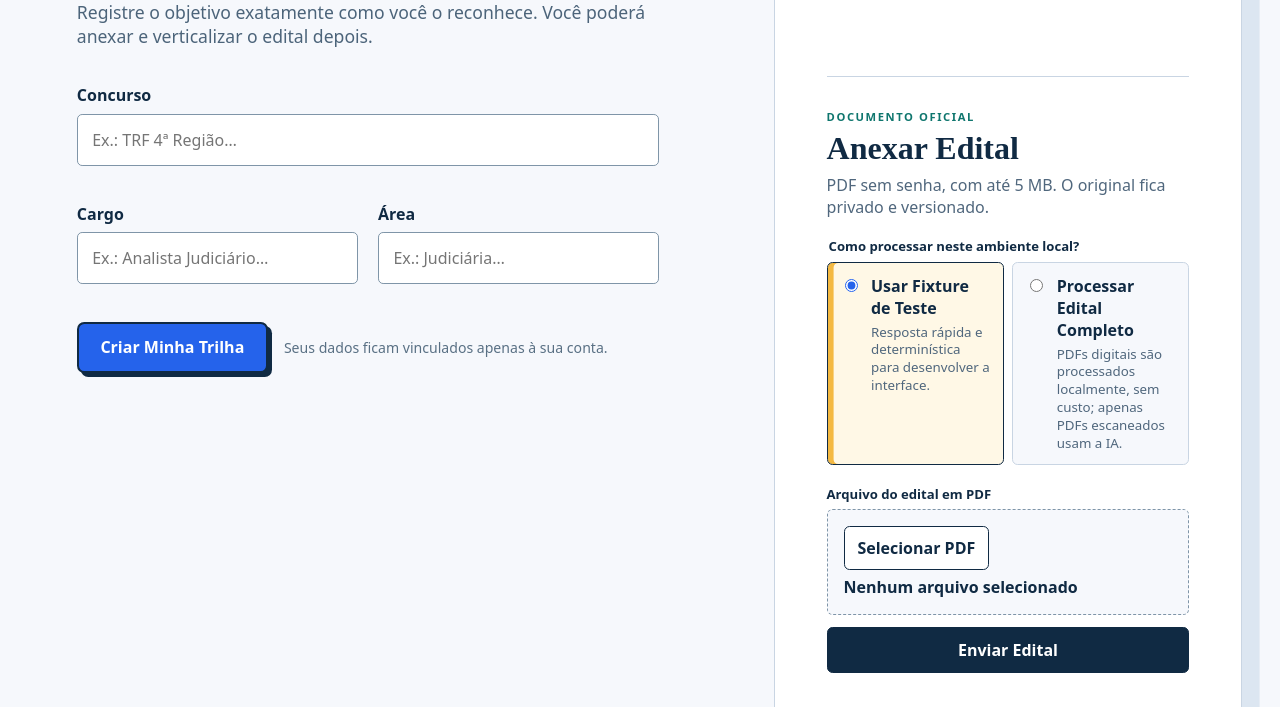
Test case: first project journey › shows field-level guidance before sending invalid project data
The image size is (1280, 707).
(page scrolled)
Click the button "Criar Minha Trilha" at (172, 347), box [77,322,268,373]
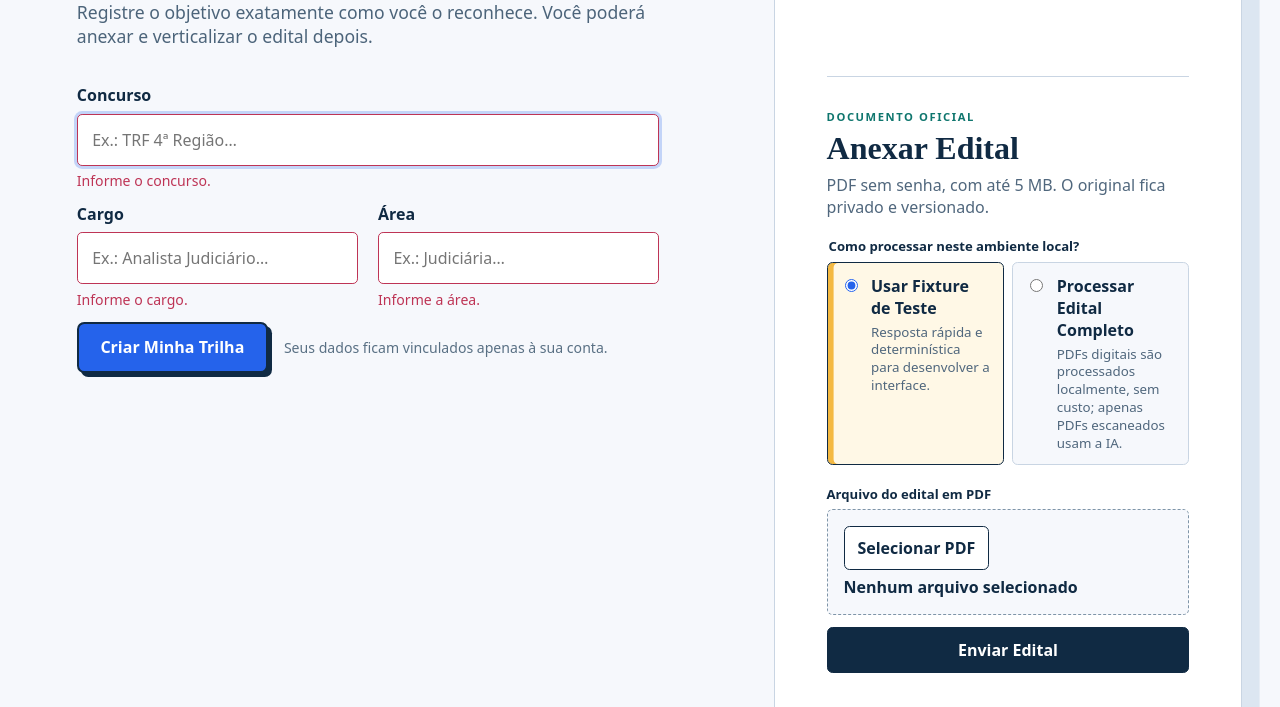
Now the text "Informe o concurso." is shown, box [77,171,211,190]
Now the text "Informe o cargo." is shown, box [77,290,188,309]
Now the text "Informe a área." is shown, box [378,290,480,309]
